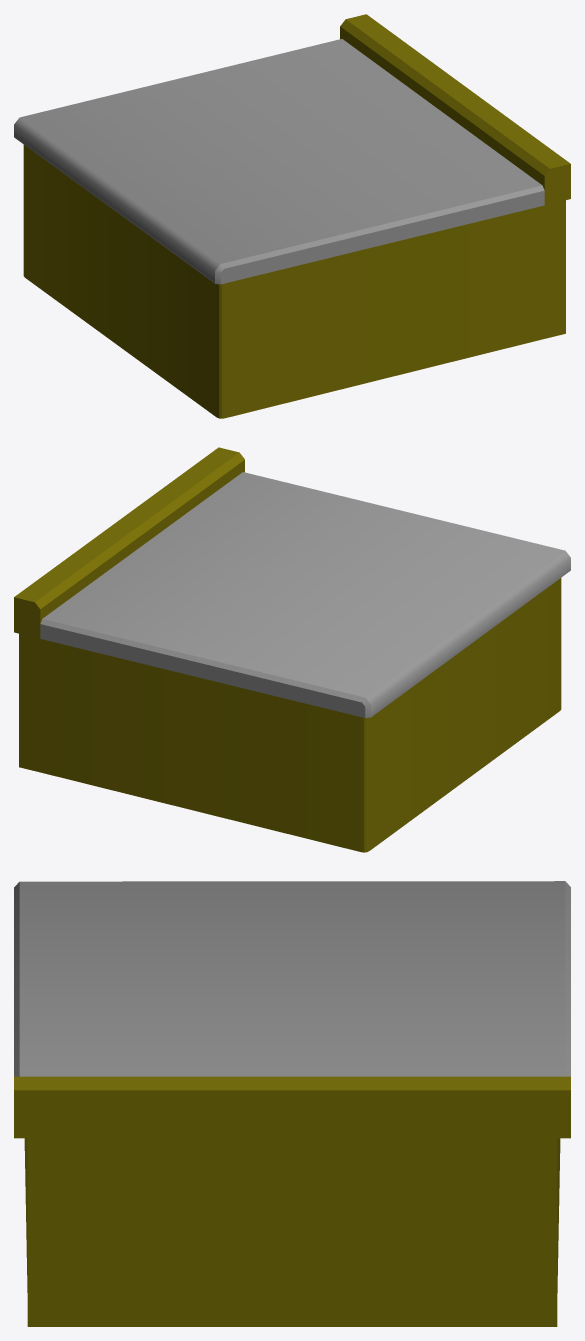
Rendered from Counter_Model.FBX.
The picture shows the model from 3 angles, top to bottom: view 1: azimuth 30°, elevation 25°; view 2: azimuth 150°, elevation 25°; view 3: azimuth 270°, elevation 25°; orthographic projection. The views are drawn at different scales.
Parts seen in each view (by area): view 1: Counter_Model; view 2: Counter_Model; view 3: Counter_Model.
Boxes of the visible parts, bbox=[...] form: Counter_Model: bbox=[14, 14, 570, 418]; Counter_Model: bbox=[14, 447, 570, 852]; Counter_Model: bbox=[14, 881, 570, 1326].
Size of the model in its own units: 99.99 by 46.78 by 99.89.
